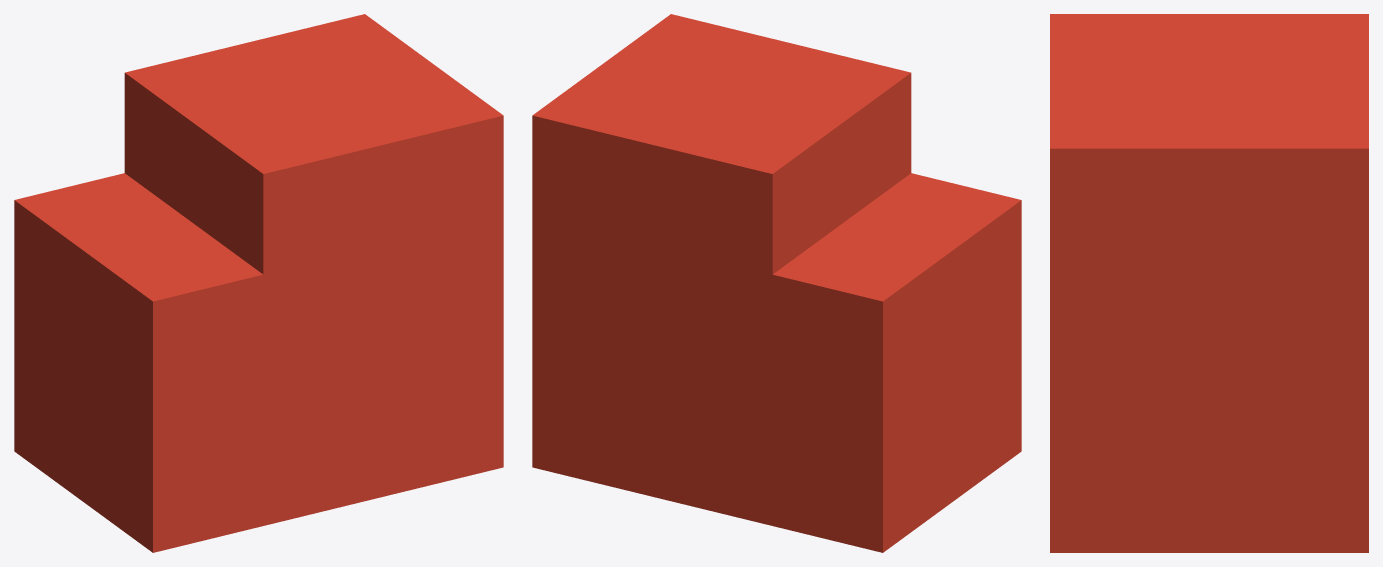
The picture shows the model from 3 angles, left to right: view 1: azimuth 30°, elevation 25°; view 2: azimuth 150°, elevation 25°; view 3: azimuth 270°, elevation 25°; orthographic projection. The views are drawn at different scales.
Visible parts, largest first — view 1: Cube; view 2: Cube; view 3: Cube.
Boxes of the visible parts, left/top/right/bottom form: Cube: left=14, top=14, right=503, bottom=552; Cube: left=532, top=14, right=1021, bottom=552; Cube: left=1050, top=14, right=1368, bottom=552.
Size of the model in its own units: 2.92 by 2.8 by 2.
